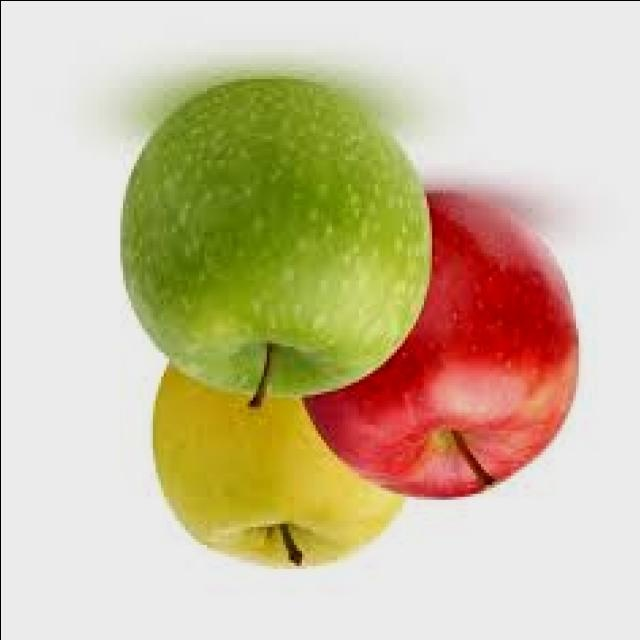agrume: (96, 48, 451, 402), (92, 247, 420, 573), (270, 197, 594, 523)
